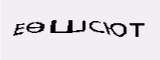Е: (35, 23, 47, 44), (49, 24, 61, 44)
Ж: (89, 31, 116, 57)
Т: (73, 30, 89, 50)
Х: (59, 29, 73, 49)
